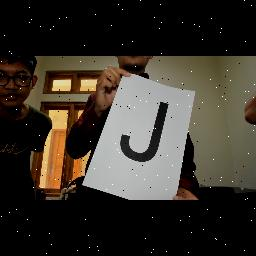j: (122, 100, 170, 170)
